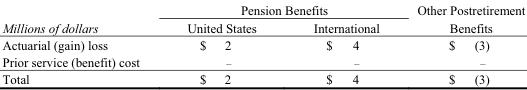table: (1, 1, 524, 87)
table column: (1, 1, 162, 87), (397, 1, 524, 87), (162, 1, 284, 87), (284, 1, 397, 87)
table column header: (1, 1, 524, 35)
table row: (1, 35, 524, 53), (1, 1, 524, 18), (1, 18, 524, 35), (1, 53, 524, 70), (1, 70, 524, 87)
table spanning cell: (1, 1, 162, 35), (397, 1, 524, 35), (162, 1, 397, 18)
